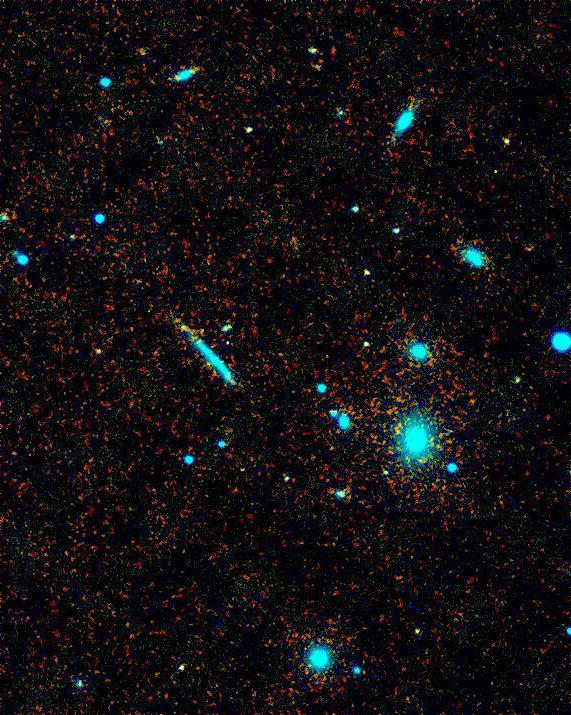star: (402, 614, 432, 644)
